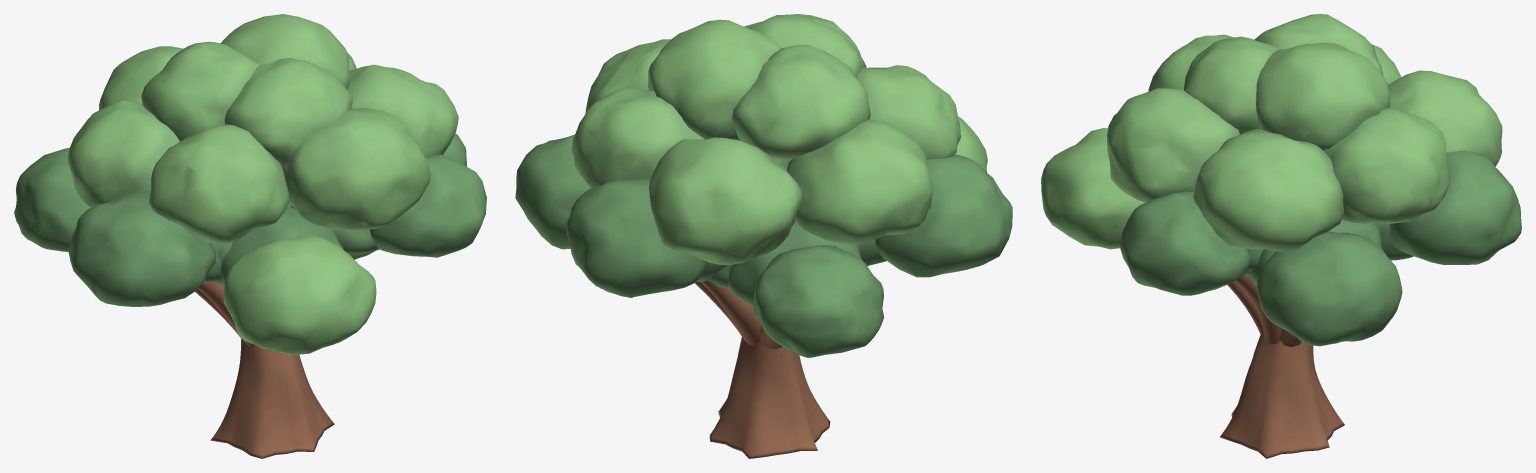
File: tree-oak-round.glb
3 views of the same model, side by side, from view 1: azimuth 30°, elevation 25°; view 2: azimuth 150°, elevation 25°; view 3: azimuth 270°, elevation 25° (orthographic). The views are drawn at different scales.
Parts seen in each view (by area): view 1: oak-tree_body; view 2: oak-tree_body; view 3: oak-tree_body.
Part boxes in pixels (bbox=[...]): oak-tree_body: bbox=[14, 14, 486, 458]; oak-tree_body: bbox=[515, 14, 1012, 458]; oak-tree_body: bbox=[1041, 14, 1521, 458].
Bounding box in the file's own units: 7.64 × 6.86 × 7.52.
1 material, 1 textured.
